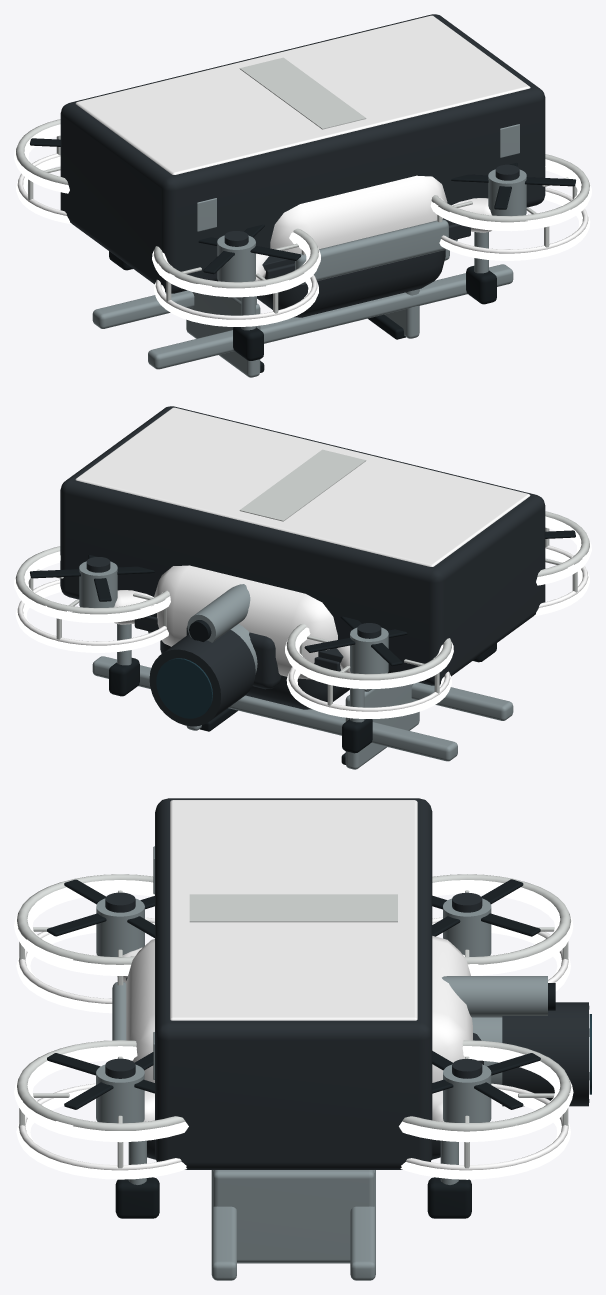
The model's file is drone-kit.glb.
3 views of the same model, one above another, from view 1: azimuth 30°, elevation 25°; view 2: azimuth 150°, elevation 25°; view 3: azimuth 270°, elevation 25° (orthographic). The views are drawn at different scales.
Parts seen in each view (by area): view 1: service-cabinet_Graphite polymer, service-cabinet_Team paint, airframe_Team paint, airframe_Team light, cargo-module_Brushed aluminum, airframe_Graphite polymer, airframe_Porcelain polymer, armor-plates_Brushed aluminum, airframe_Grip rubber, service-cabinet_Porcelain polymer, airframe_Brushed aluminum, cargo-grip_Brushed aluminum (+3 smaller); view 2: service-cabinet_Graphite polymer, service-cabinet_Team paint, airframe_Team paint, airframe_Team light, cargo-module_Brushed aluminum, airframe_Porcelain polymer, optics_Graphite polymer, airframe_Grip rubber, airframe_Brushed aluminum, service-cabinet_Porcelain polymer, airframe_Graphite polymer, optics_Camera glass (+3 smaller); view 3: service-cabinet_Team paint, service-cabinet_Graphite polymer, airframe_Team light, cargo-grip_Brushed aluminum, airframe_Team paint, airframe_Porcelain polymer, airframe_Brushed aluminum, airframe_Grip rubber, service-cabinet_Porcelain polymer, optics_Graphite polymer, cargo-module_Brushed aluminum, gun_Brushed aluminum (+2 smaller).
Part boxes in pixels (x1=…): service-cabinet_Graphite polymer: x1=60, y1=14, x2=545, y2=293; service-cabinet_Team paint: x1=75, y1=15, x2=530, y2=174; airframe_Team paint: x1=17, y1=153, x2=588, y2=319; airframe_Team light: x1=14, y1=124, x2=591, y2=326; cargo-module_Brushed aluminum: x1=92, y1=239, x2=513, y2=369; airframe_Graphite polymer: x1=224, y1=164, x2=519, y2=317; airframe_Porcelain polymer: x1=16, y1=119, x2=589, y2=313; armor-plates_Brushed aluminum: x1=234, y1=219, x2=449, y2=304; airframe_Grip rubber: x1=30, y1=138, x2=575, y2=360; service-cabinet_Porcelain polymer: x1=239, y1=57, x2=366, y2=129; airframe_Brushed aluminum: x1=217, y1=169, x2=526, y2=330; cargo-grip_Brushed aluminum: x1=186, y1=289, x2=419, y2=377; service-cabinet_Graphite polymer: x1=60, y1=406, x2=545, y2=685; service-cabinet_Team paint: x1=75, y1=407, x2=530, y2=566; airframe_Team paint: x1=17, y1=545, x2=588, y2=711; airframe_Team light: x1=14, y1=516, x2=591, y2=718; cargo-module_Brushed aluminum: x1=92, y1=631, x2=513, y2=761; airframe_Porcelain polymer: x1=15, y1=511, x2=589, y2=705; optics_Graphite polymer: x1=149, y1=629, x2=255, y2=726; airframe_Grip rubber: x1=30, y1=530, x2=575, y2=753; airframe_Brushed aluminum: x1=79, y1=561, x2=388, y2=722; service-cabinet_Porcelain polymer: x1=239, y1=449, x2=366, y2=521; airframe_Graphite polymer: x1=86, y1=557, x2=381, y2=709; optics_Camera glass: x1=156, y1=658, x2=212, y2=718; service-cabinet_Team paint: x1=170, y1=800, x2=417, y2=1020; service-cabinet_Graphite polymer: x1=155, y1=798, x2=432, y2=1169; airframe_Team light: x1=14, y1=880, x2=573, y2=1179; cargo-grip_Brushed aluminum: x1=213, y1=1170, x2=374, y2=1262; airframe_Team paint: x1=18, y1=917, x2=568, y2=1170; airframe_Porcelain polymer: x1=17, y1=874, x2=571, y2=1168; airframe_Brushed aluminum: x1=96, y1=898, x2=502, y2=1184; airframe_Grip rubber: x1=47, y1=879, x2=540, y2=1218; service-cabinet_Porcelain polymer: x1=189, y1=894, x2=397, y2=922; optics_Graphite polymer: x1=502, y1=1002, x2=589, y2=1106; cargo-module_Brushed aluminum: x1=211, y1=1170, x2=375, y2=1280; gun_Brushed aluminum: x1=442, y1=976, x2=547, y2=1017.
Bounding box in the file's own units: 0.5242 × 0.292 × 0.5001.
